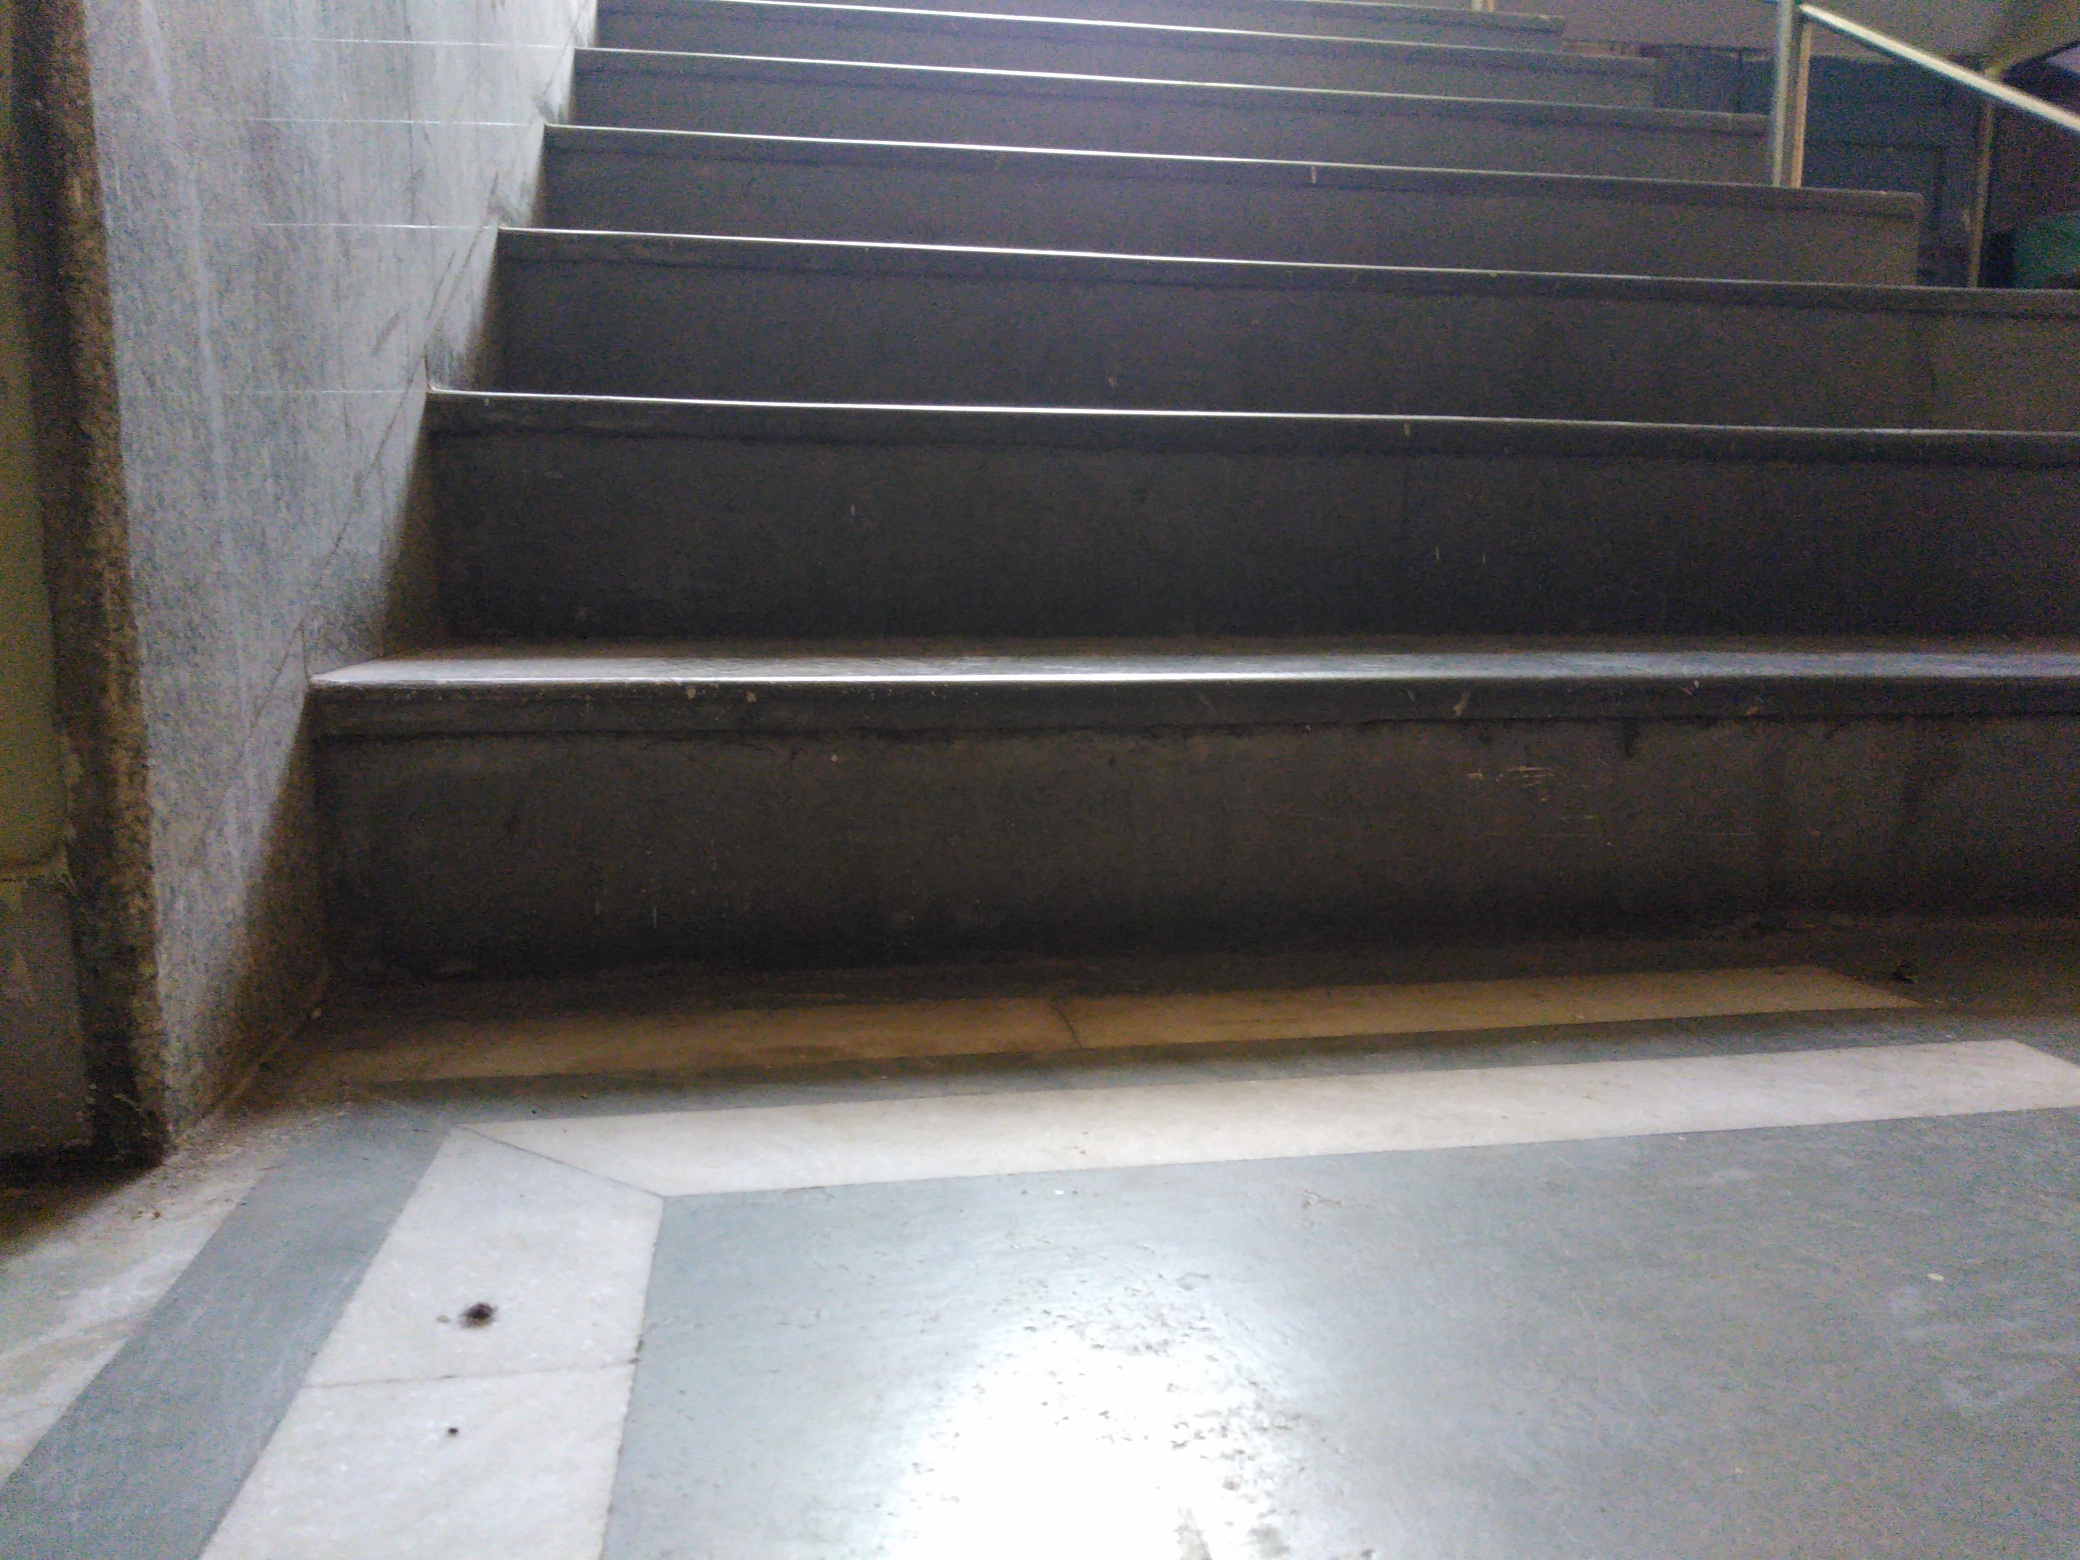stairs_up: (369, 21, 2080, 1000)
